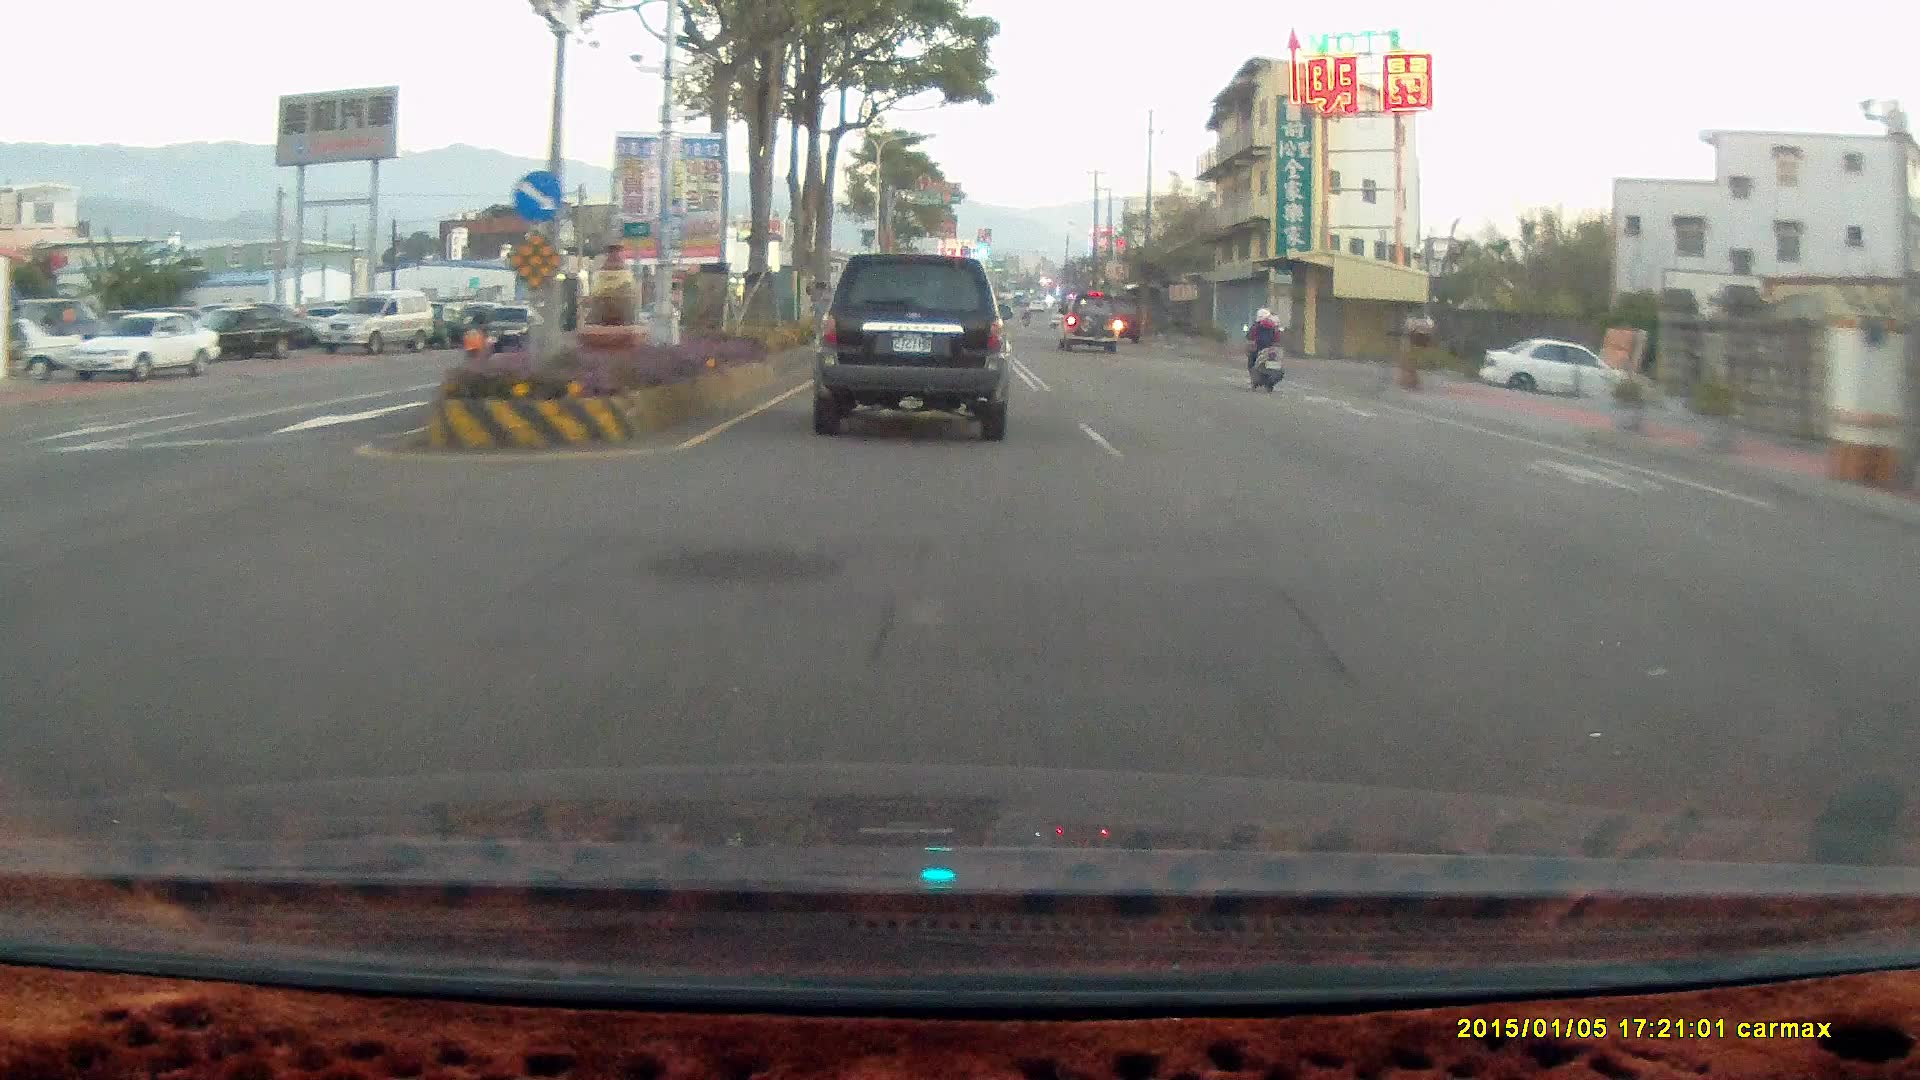rider: (1234, 298, 1294, 400), (1240, 302, 1284, 391), (457, 302, 495, 365)
vehicle: (811, 248, 1012, 443), (809, 250, 1013, 438), (1478, 339, 1657, 407), (1478, 342, 1660, 406), (64, 310, 223, 380), (55, 317, 219, 384), (179, 304, 320, 364), (175, 301, 316, 360), (321, 292, 437, 355), (319, 289, 434, 351), (473, 305, 556, 355), (1061, 296, 1122, 360), (1056, 286, 1119, 347), (472, 303, 548, 350), (1097, 295, 1140, 346)
